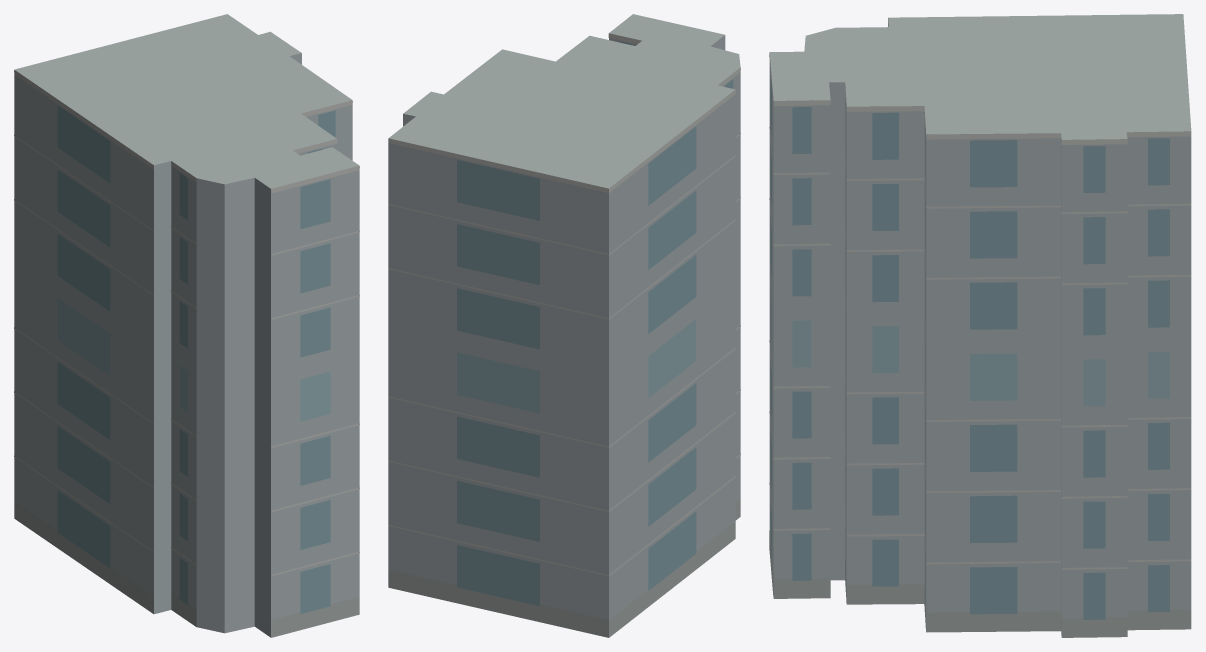
File: survey-upis-32763885.glb
3 views of the same model, side by side, from view 1: azimuth 30°, elevation 25°; view 2: azimuth 150°, elevation 25°; view 3: azimuth 270°, elevation 25° (orthographic). The views are drawn at different scales.
Visible parts, largest first — view 1: survey-upis-32763885.tmp; view 2: survey-upis-32763885.tmp; view 3: survey-upis-32763885.tmp.
Boxes of the visible parts, <box> form: survey-upis-32763885.tmp: <box>14,14,359,637</box>; survey-upis-32763885.tmp: <box>388,14,740,637</box>; survey-upis-32763885.tmp: <box>769,14,1191,637</box>.
Size of the model in its own units: 12.88 by 23.7 by 18.22.
